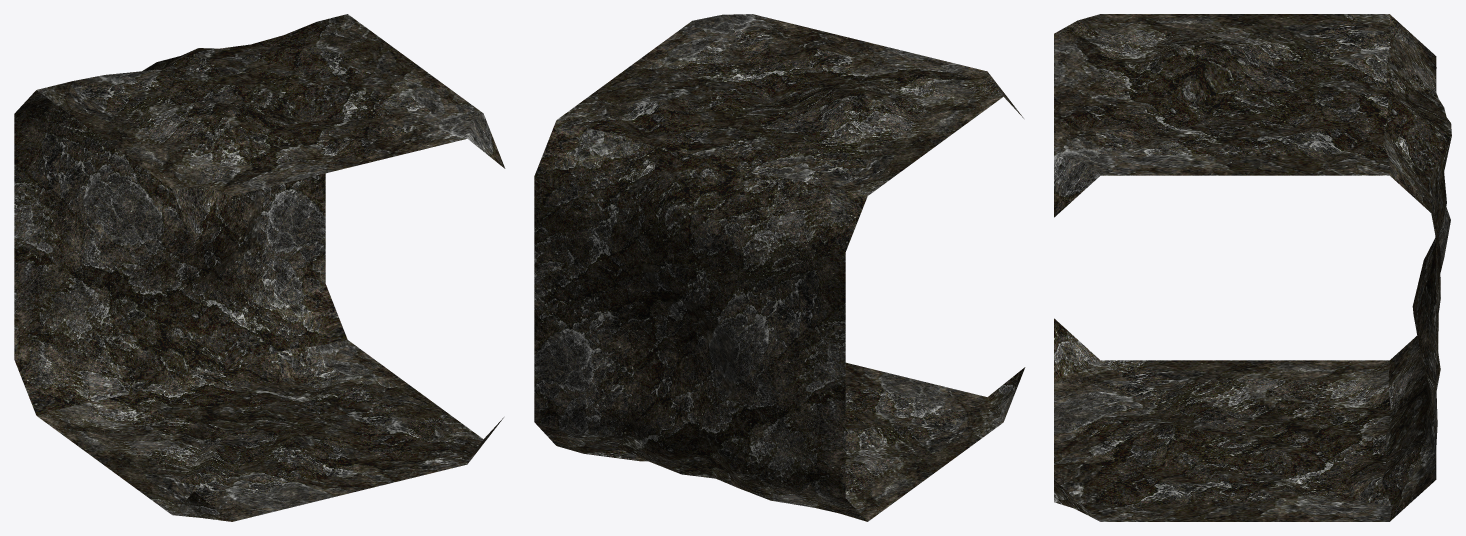
File: Cave_006.fbx
3 views of the same model, side by side, from view 1: azimuth 30°, elevation 25°; view 2: azimuth 150°, elevation 25°; view 3: azimuth 270°, elevation 25° (orthographic). The views are drawn at different scales.
Parts seen in each view (by area): view 1: Cave.006; view 2: Cave.006; view 3: Cave.006.
Boxes of the visible parts, x1=… form: Cave.006: x1=14, y1=14, x2=505, y2=521; Cave.006: x1=534, y1=14, x2=1025, y2=521; Cave.006: x1=1054, y1=14, x2=1451, y2=521.
Bounding box in the file's own units: 300 × 328 × 312.
